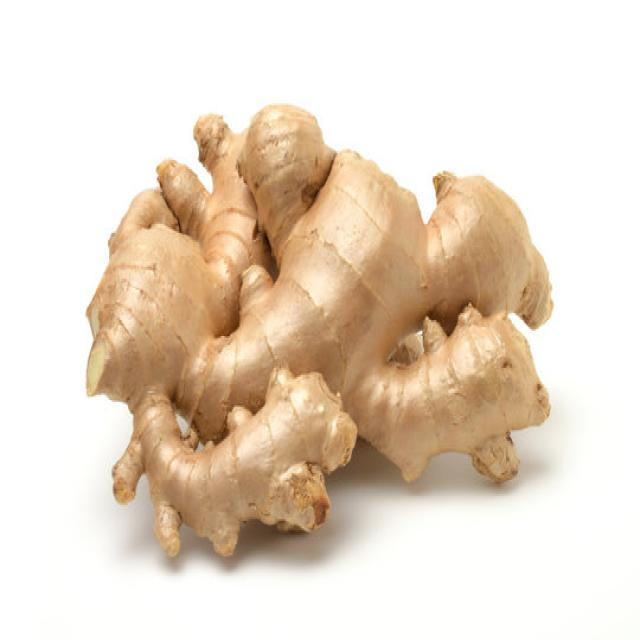Ginger: (89, 95, 559, 553)
